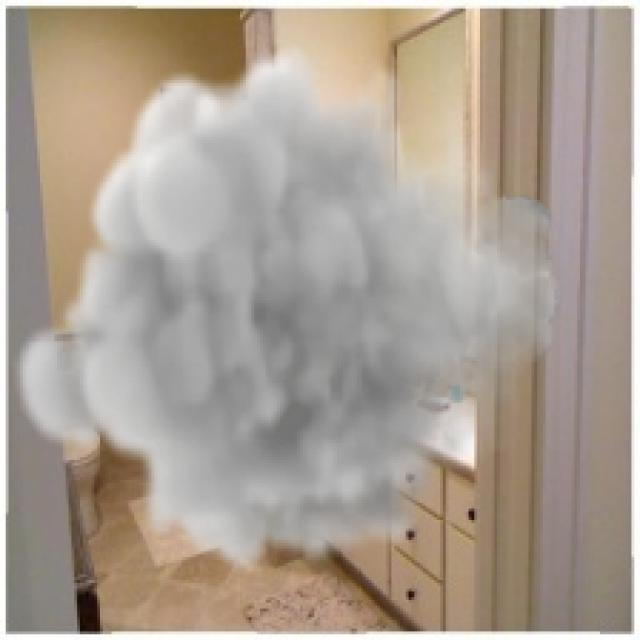Smoke: (8, 42, 563, 574)
